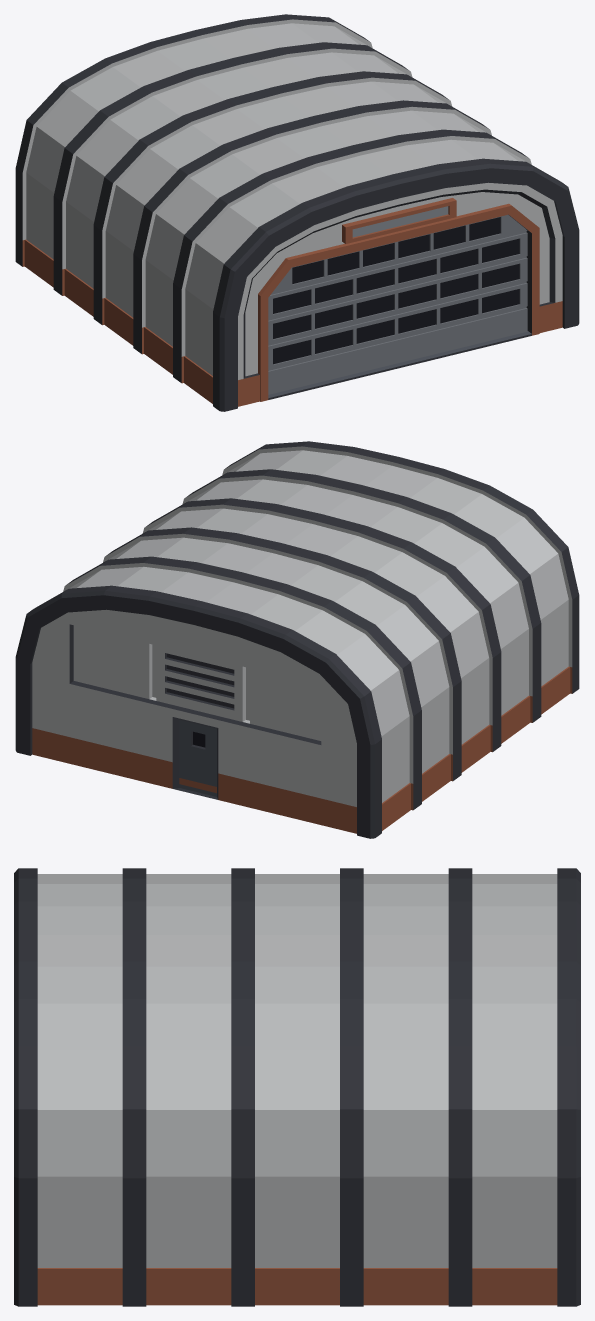
File: shuttle-hangar-8ff9a3.glb
The picture shows the model from 3 angles, top to bottom: view 1: azimuth 30°, elevation 25°; view 2: azimuth 150°, elevation 25°; view 3: azimuth 270°, elevation 25°; orthographic projection. The views are drawn at different scales.
Parts seen in each view (by area): view 1: hull, door; view 2: hull; view 3: hull.
Part boxes in pixels (left/top/right/bottom): hull: left=15, top=14, right=579, bottom=411; door: left=268, top=215, right=527, bottom=394; hull: left=15, top=441, right=579, bottom=838; hull: left=14, top=868, right=580, bottom=1306.
Size of the model in its own units: 12 by 6 by 12.
